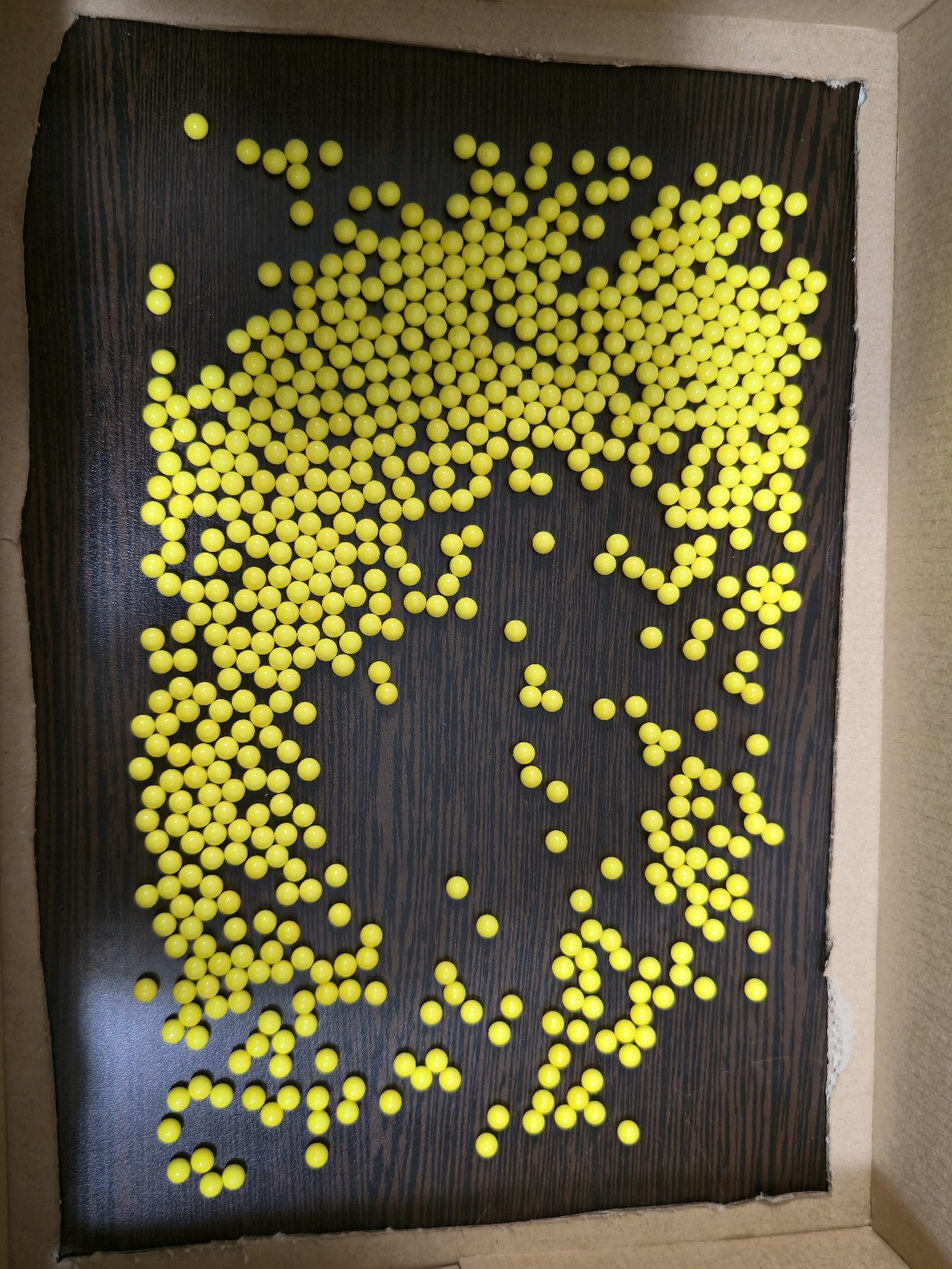yellow_bead: (147, 559, 160, 573), (199, 558, 213, 571), (153, 383, 167, 396), (206, 370, 219, 384), (206, 534, 219, 547), (166, 522, 179, 535), (199, 498, 212, 511), (245, 495, 258, 508), (202, 473, 215, 486), (163, 457, 176, 470), (192, 447, 205, 460), (217, 393, 230, 406), (155, 270, 168, 283), (492, 1111, 504, 1125), (399, 1058, 411, 1072), (425, 1006, 437, 1020), (220, 742, 234, 754), (162, 578, 176, 590), (147, 507, 161, 519), (283, 1092, 295, 1105), (444, 1073, 456, 1086), (431, 1054, 443, 1067), (277, 1035, 289, 1048), (644, 962, 656, 975), (297, 952, 309, 965), (158, 918, 170, 931), (176, 900, 188, 913), (282, 887, 294, 900), (184, 870, 197, 882), (206, 852, 219, 864), (187, 836, 199, 849), (193, 810, 206, 822), (204, 788, 216, 801), (248, 773, 261, 785), (213, 766, 226, 778), (223, 673, 236, 685), (218, 607, 231, 619), (210, 585, 223, 597), (167, 547, 180, 559), (258, 516, 271, 528), (222, 503, 235, 515), (174, 501, 187, 513), (153, 481, 165, 494), (226, 477, 239, 489), (178, 477, 191, 489), (240, 458, 253, 470), (216, 454, 228, 467), (270, 446, 283, 458), (254, 428, 266, 441), (208, 427, 220, 440), (179, 424, 191, 437), (149, 409, 161, 422), (235, 378, 248, 390), (157, 356, 170, 368), (790, 198, 802, 211), (724, 186, 736, 199), (481, 1138, 492, 1152), (623, 1125, 634, 1139), (587, 1074, 598, 1088), (494, 1027, 505, 1041), (194, 1083, 206, 1095), (264, 1017, 276, 1029), (210, 1002, 222, 1014), (657, 991, 669, 1003), (750, 984, 762, 996), (675, 969, 687, 981), (753, 936, 765, 948), (708, 925, 720, 937), (229, 923, 241, 935), (736, 904, 748, 916), (305, 884, 317, 896), (205, 880, 217, 892), (732, 879, 744, 891), (289, 864, 301, 876), (164, 856, 176, 868), (271, 850, 283, 862), (234, 824, 246, 836), (252, 809, 264, 821), (272, 775, 284, 787), (237, 725, 249, 737), (137, 720, 149, 732), (275, 695, 287, 707), (260, 671, 272, 683), (242, 655, 254, 667), (219, 650, 231, 662), (257, 637, 269, 649), (318, 556, 330, 568), (274, 547, 286, 559), (300, 541, 312, 553), (361, 524, 373, 536), (300, 494, 312, 506), (368, 486, 380, 498), (387, 461, 399, 473), (763, 457, 775, 469), (157, 433, 169, 445), (276, 415, 288, 427), (193, 391, 205, 403), (765, 235, 777, 247), (762, 212, 774, 224), (349, 1082, 360, 1095), (573, 1025, 584, 1038), (548, 1017, 559, 1030), (466, 1006, 477, 1019), (587, 1001, 598, 1014), (506, 1000, 517, 1013), (568, 993, 579, 1006), (700, 982, 711, 995), (334, 908, 345, 921), (170, 820, 183, 831), (228, 784, 239, 797), (135, 762, 148, 773), (283, 745, 294, 758), (279, 630, 292, 641), (258, 614, 271, 625), (193, 608, 206, 619), (239, 594, 252, 605), (281, 479, 294, 490), (788, 452, 801, 463), (231, 436, 242, 449), (800, 298, 813, 309), (155, 295, 165, 309), (528, 1116, 539, 1128), (416, 1073, 427, 1085), (234, 1057, 245, 1069), (191, 1033, 203, 1044), (300, 1021, 312, 1032), (298, 996, 309, 1008), (634, 986, 646, 997), (316, 966, 328, 977), (558, 962, 569, 974), (615, 954, 626, 966), (676, 948, 688, 959), (605, 934, 616, 946), (586, 925, 597, 937), (186, 922, 197, 934), (482, 920, 493, 932), (691, 910, 702, 922), (576, 895, 587, 907), (660, 888, 672, 899), (452, 881, 463, 893), (163, 881, 174, 893), (330, 870, 342, 881), (712, 863, 723, 875), (606, 862, 617, 874), (691, 852, 702, 864), (257, 832, 268, 844), (309, 831, 321, 842), (298, 809, 309, 821), (175, 796, 187, 807), (165, 774, 177, 785), (303, 763, 315, 774), (242, 751, 254, 762), (518, 748, 530, 759), (752, 739, 764, 750), (265, 731, 277, 742), (299, 707, 311, 718), (345, 637, 356, 649), (303, 629, 315, 640), (364, 619, 376, 630), (328, 597, 339, 609), (292, 586, 304, 597), (315, 579, 327, 590), (369, 574, 381, 585), (628, 562, 640, 573), (340, 547, 352, 558), (789, 536, 801, 547), (304, 518, 316, 529), (774, 516, 786, 527), (733, 511, 745, 522), (277, 502, 289, 513), (323, 497, 335, 508), (457, 495, 469, 506), (347, 495, 359, 506), (775, 478, 787, 489), (310, 474, 322, 485), (724, 472, 736, 483), (438, 472, 450, 483), (355, 467, 367, 478), (292, 458, 303, 470), (312, 446, 324, 457), (608, 444, 620, 455), (707, 431, 718, 443), (732, 430, 744, 441), (472, 428, 483, 440), (513, 423, 524, 435), (359, 420, 371, 431), (233, 413, 245, 424), (553, 411, 565, 422), (721, 411, 732, 423), (303, 400, 315, 411), (757, 396, 769, 407), (785, 390, 797, 401), (747, 377, 759, 388), (738, 357, 749, 369), (696, 344, 707, 356), (358, 344, 369, 356), (804, 343, 816, 354), (744, 315, 755, 327), (783, 307, 795, 318), (753, 272, 765, 283), (792, 263, 804, 274), (721, 238, 732, 250), (733, 221, 745, 232), (746, 181, 757, 193), (590, 1106, 600, 1119), (601, 1035, 611, 1048), (372, 987, 382, 1000), (199, 905, 212, 915), (151, 835, 164, 845), (209, 828, 222, 838), (214, 704, 227, 714), (237, 695, 250, 705), (784, 498, 797, 508), (544, 1071, 555, 1082), (321, 1055, 332, 1066), (234, 997, 245, 1008), (266, 945, 277, 956), (366, 929, 377, 940), (692, 888, 703, 899), (734, 841, 745, 852), (768, 829, 779, 840), (646, 815, 657, 826), (552, 786, 563, 797), (645, 728, 656, 739), (631, 701, 642, 712), (530, 669, 541, 680), (321, 644, 332, 655), (646, 632, 657, 643), (234, 632, 245, 643), (728, 614, 739, 625), (765, 609, 776, 620), (461, 603, 472, 614), (432, 600, 443, 611), (663, 588, 674, 599), (443, 579, 454, 590), (676, 571, 687, 582), (753, 571, 764, 582), (455, 560, 466, 571), (680, 549, 691, 560), (700, 540, 711, 551), (612, 539, 623, 550), (446, 539, 457, 550), (736, 533, 747, 544), (713, 513, 724, 524), (713, 490, 724, 501), (736, 489, 747, 500), (398, 482, 409, 493), (334, 475, 345, 486), (746, 470, 757, 481), (574, 454, 585, 465), (517, 452, 528, 463), (694, 449, 705, 460), (457, 446, 468, 457), (379, 440, 390, 451), (774, 438, 785, 449), (559, 434, 570, 445), (400, 429, 411, 440), (763, 418, 774, 429), (490, 414, 501, 425), (701, 410, 712, 421), (568, 393, 579, 404), (691, 386, 702, 397), (349, 371, 360, 382), (371, 364, 382, 375), (681, 361, 692, 372), (771, 341, 782, 352), (381, 340, 392, 351), (729, 332, 740, 343), (789, 328, 800, 339), (742, 293, 753, 304), (345, 280, 356, 291), (711, 263, 722, 274), (202, 983, 214, 993), (584, 977, 596, 987), (441, 967, 451, 979), (566, 939, 576, 951), (141, 890, 151, 902), (251, 861, 263, 871), (230, 848, 242, 858), (280, 829, 292, 839), (750, 819, 762, 829), (147, 791, 159, 801), (199, 687, 211, 697), (375, 666, 385, 678), (155, 655, 167, 665), (785, 596, 797, 606), (336, 571, 348, 581), (296, 564, 308, 574), (390, 551, 402, 561), (251, 540, 263, 550), (685, 492, 695, 504), (663, 489, 675, 499), (257, 475, 269, 485), (414, 457, 424, 469), (434, 449, 446, 459), (492, 443, 504, 453), (744, 411, 754, 423), (732, 392, 744, 402), (750, 338, 760, 350), (784, 285, 796, 295), (809, 277, 821, 287), (151, 739, 164, 748), (179, 654, 192, 663), (232, 528, 245, 537), (190, 963, 200, 974), (237, 950, 248, 960), (669, 852, 680, 862), (551, 836, 562, 846), (649, 751, 660, 761), (665, 735, 675, 746), (547, 695, 557, 706), (747, 688, 758, 698), (742, 656, 753, 666), (689, 644, 700, 654), (147, 633, 158, 643), (510, 626, 521, 636), (387, 623, 398, 633), (747, 595, 757, 606), (350, 590, 361, 600), (723, 582, 734, 592), (405, 569, 416, 579), (698, 562, 708, 573), (600, 559, 611, 569), (538, 537, 549, 547), (385, 529, 396, 539), (339, 518, 350, 528), (693, 513, 703, 524), (671, 511, 681, 522), (385, 505, 396, 515), (408, 503, 419, 513), (587, 474, 598, 484), (687, 471, 698, 481), (637, 470, 647, 481), (335, 452, 346, 462), (723, 449, 733, 460), (357, 443, 367, 454), (588, 437, 598, 448), (794, 431, 804, 442), (538, 431, 548, 442), (644, 428, 654, 439), (578, 417, 588, 428), (681, 414, 691, 425), (454, 413, 464, 424), (659, 412, 669, 423), (530, 407, 540, 418), (672, 393, 682, 404), (712, 391, 722, 402), (546, 390, 556, 401), (524, 385, 534, 396), (464, 378, 475, 388), (769, 377, 779, 388), (723, 372, 733, 383), (507, 370, 517, 381), (676, 338, 686, 349), (408, 333, 418, 344), (765, 320, 775, 331), (724, 310, 734, 321), (350, 303, 361, 313), (682, 298, 692, 309), (720, 288, 730, 299), (451, 284, 461, 295), (321, 283, 332, 293), (732, 271, 742, 282), (686, 205, 696, 216), (701, 169, 711, 180), (562, 1111, 571, 1123), (161, 718, 173, 727), (256, 710, 268, 719), (381, 688, 393, 697), (175, 682, 187, 691), (665, 437, 674, 449), (252, 323, 264, 332), (669, 315, 678, 327), (541, 1095, 549, 1108), (275, 803, 288, 811), (263, 595, 276, 603), (186, 589, 199, 597), (281, 529, 294, 537), (278, 968, 288, 978), (715, 831, 725, 841), (674, 802, 684, 812), (676, 780, 686, 790), (739, 778, 749, 788), (702, 715, 712, 725), (600, 704, 610, 714), (698, 624, 708, 634), (376, 598, 386, 608), (779, 568, 789, 578), (634, 448, 644, 458), (433, 425, 443, 435), (312, 423, 322, 433), (508, 401, 518, 411), (396, 385, 406, 395), (278, 364, 288, 374), (759, 359, 769, 369), (522, 353, 532, 363), (291, 335, 301, 345), (410, 283, 420, 293), (387, 267, 397, 277), (312, 1154, 323, 1163), (313, 1096, 324, 1105), (277, 1062, 286, 1073), (625, 1053, 636, 1062), (642, 1032, 651, 1043), (260, 916, 271, 925), (526, 771, 537, 780), (689, 762, 698, 773), (766, 634, 777, 643), (323, 533, 334, 542), (435, 495, 446, 504), (475, 481, 486, 490), (292, 434, 303, 443), (405, 406, 414, 417), (591, 396, 600, 407), (284, 391, 293, 402), (492, 386, 501, 397), (605, 379, 614, 390), (441, 367, 450, 378), (704, 367, 713, 378), (500, 348, 509, 359), (269, 341, 278, 352), (689, 320, 698, 331), (663, 289, 672, 300), (370, 283, 379, 294), (701, 245, 710, 256), (707, 200, 716, 211), (216, 1090, 228, 1098), (197, 749, 209, 757), (298, 656, 310, 664), (248, 572, 260, 580), (384, 411, 392, 423), (339, 350, 347, 362), (177, 626, 190, 633), (679, 872, 689, 881), (654, 837, 664, 846), (678, 825, 687, 835), (221, 809, 231, 818), (698, 803, 708, 812), (154, 695, 164, 704), (730, 678, 740, 687), (283, 607, 292, 617), (411, 597, 421, 606), (649, 574, 659, 583), (255, 404, 265, 413), (615, 399, 625, 408), (665, 372, 674, 382), (638, 346, 647, 356), (611, 338, 620, 348), (652, 329, 661, 339), (432, 321, 441, 331), (390, 318, 399, 328), (453, 308, 462, 318), (329, 306, 338, 316), (391, 295, 401, 304), (701, 281, 710, 291), (350, 257, 360, 266), (553, 237, 562, 247), (228, 1172, 239, 1180), (234, 974, 242, 985), (170, 941, 181, 949), (654, 868, 662, 879), (224, 554, 235, 562), (375, 388, 383, 399), (565, 348, 573, 359), (710, 327, 718, 338), (413, 308, 421, 319), (283, 678, 295, 685), (328, 625, 340, 632), (254, 966, 263, 975), (395, 361, 404, 370), (596, 358, 605, 367), (308, 354, 317, 363), (344, 327, 353, 336), (277, 317, 286, 326), (645, 274, 654, 283), (666, 191, 675, 200), (202, 940, 210, 950), (748, 798, 756, 808), (276, 657, 286, 665), (515, 475, 525, 483), (477, 458, 487, 466), (448, 391, 456, 401), (651, 390, 659, 400), (301, 376, 309, 386), (645, 367, 653, 377), (524, 324, 532, 334), (475, 318, 483, 328), (706, 303, 714, 313), (544, 288, 552, 298), (623, 279, 633, 287), (433, 273, 441, 283), (452, 261, 460, 271), (411, 260, 419, 270), (513, 256, 521, 266), (194, 124, 202, 134), (584, 954, 591, 965), (173, 749, 184, 756), (525, 695, 536, 702), (306, 605, 317, 612), (536, 482, 547, 489), (430, 402, 437, 413), (633, 324, 640, 335), (306, 315, 313, 326), (434, 297, 441, 308), (617, 183, 624, 194), (225, 896, 233, 905), (141, 817, 153, 823), (190, 771, 199, 779), (768, 588, 776, 597), (637, 408, 645, 417), (562, 370, 570, 379), (622, 359, 630, 368), (457, 332, 465, 341), (504, 311, 512, 320), (649, 306, 657, 315), (524, 301, 532, 310), (565, 300, 573, 309), (524, 277, 532, 286), (681, 274, 689, 283), (266, 270, 274, 279), (681, 251, 689, 260), (364, 237, 373, 245), (686, 229, 695, 237), (639, 222, 647, 231), (658, 213, 667, 221), (580, 158, 589, 166), (386, 1099, 396, 1106), (276, 575, 286, 582), (354, 399, 361, 409), (584, 376, 591, 386), (385, 245, 395, 252), (623, 1025, 629, 1036), (362, 954, 373, 960), (477, 399, 483, 410), (286, 926, 294, 934), (328, 150, 336, 158), (463, 142, 471, 150), (453, 988, 460, 997), (184, 705, 193, 712), (331, 396, 338, 405), (541, 368, 548, 377), (485, 364, 492, 373), (546, 339, 553, 348), (480, 295, 487, 304), (328, 262, 337, 269), (492, 238, 499, 247), (639, 162, 646, 171), (710, 774, 716, 784), (337, 664, 349, 669), (591, 317, 597, 327), (547, 314, 553, 324), (631, 302, 637, 312), (609, 292, 615, 302), (494, 262, 500, 272), (639, 1012, 647, 1019), (569, 257, 576, 265), (410, 237, 417, 245), (472, 226, 479, 234), (343, 226, 350, 234), (456, 202, 463, 210), (534, 172, 541, 180), (665, 259, 670, 270), (298, 170, 303, 181), (167, 1026, 176, 1032), (187, 1012, 193, 1021), (343, 959, 349, 968), (326, 373, 332, 382), (249, 362, 258, 368), (663, 350, 669, 359), (324, 332, 330, 341), (550, 265, 556, 274), (516, 199, 522, 208), (274, 157, 280, 166), (242, 148, 251, 154), (761, 495, 771, 500), (240, 336, 245, 346), (594, 221, 599, 231), (558, 1054, 565, 1061), (439, 347, 446, 354), (387, 190, 394, 197), (294, 148, 301, 155), (620, 422, 628, 428), (174, 400, 182, 406), (419, 356, 425, 364), (480, 341, 486, 349), (614, 316, 620, 324), (515, 233, 521, 241), (300, 209, 306, 217), (478, 205, 486, 211), (618, 153, 624, 161), (144, 985, 149, 994), (631, 257, 636, 266), (597, 187, 602, 196), (201, 1160, 208, 1166), (340, 419, 346, 426), (422, 382, 428, 389), (370, 325, 376, 332), (473, 250, 479, 257), (182, 987, 187, 995), (669, 235, 674, 243), (536, 223, 541, 231), (504, 179, 509, 187), (318, 1119, 324, 1125), (431, 226, 437, 232), (576, 1097, 583, 1102), (208, 729, 215, 734), (215, 632, 222, 637), (367, 551, 374, 556), (649, 245, 654, 252), (550, 205, 555, 212), (490, 150, 494, 158), (264, 384, 270, 389), (464, 357, 469, 363), (589, 296, 594, 302), (536, 248, 541, 254), (482, 178, 487, 184), (540, 150, 546, 155), (205, 1180, 212, 1184), (219, 958, 222, 966), (589, 341, 593, 347), (305, 295, 309, 301), (717, 894, 724, 897), (599, 274, 602, 281), (179, 1168, 184, 1172), (347, 989, 351, 994), (568, 327, 572, 332), (302, 269, 306, 274), (433, 253, 437, 258), (453, 240, 457, 245), (567, 191, 571, 196), (506, 286, 509, 292), (720, 350, 725, 353), (342, 1108, 346, 1111), (788, 360, 794, 362), (570, 221, 573, 225), (503, 217, 506, 221), (361, 196, 364, 200), (327, 992, 329, 997), (476, 277, 479, 280), (414, 212, 417, 215), (750, 447, 754, 449), (193, 119, 197, 121), (173, 1096, 176, 1098), (474, 536, 476, 539), (770, 294, 774, 295), (352, 1111, 353, 1114), (784, 364, 785, 367), (765, 298, 766, 301), (776, 295, 777, 298), (219, 812, 220, 814), (211, 635, 213, 636), (237, 335, 239, 336), (776, 194, 777, 196), (177, 1034, 178, 1035), (176, 1032, 177, 1033), (782, 415, 783, 416), (795, 363, 796, 364), (787, 361, 788, 362), (718, 352, 719, 353), (775, 191, 776, 192), (257, 1042, 257, 1043), (274, 658, 275, 658), (210, 633, 210, 634), (274, 575, 274, 576), (477, 536, 477, 536), (155, 519, 155, 520), (147, 511, 147, 512), (782, 419, 782, 420), (785, 363, 785, 364), (727, 354, 727, 355), (240, 347, 241, 347), (774, 295, 775, 295), (776, 193, 776, 193), (774, 190, 774, 191), (200, 123, 201, 123)
